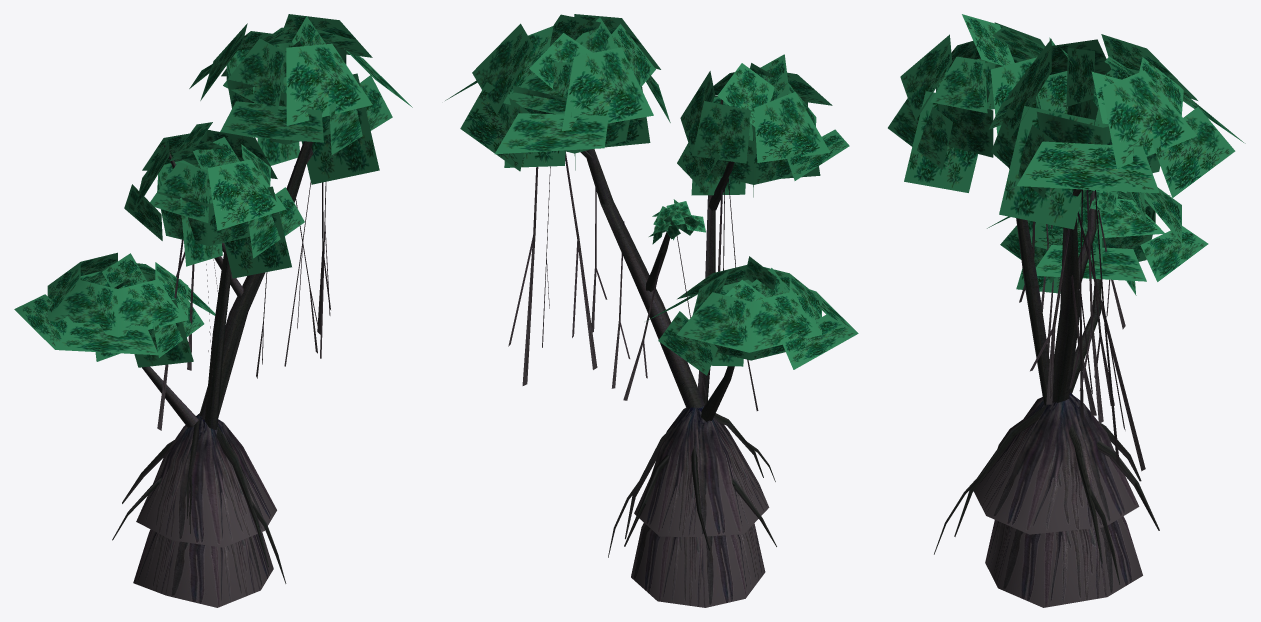
The model's file is swamp_tree_roots.fbx.
3 views of the same model, side by side, from view 1: azimuth 30°, elevation 25°; view 2: azimuth 150°, elevation 25°; view 3: azimuth 270°, elevation 25° (orthographic). The views are drawn at different scales.
Visible parts, largest first — view 1: leaves1, leaves2, leaves.001, root_up2, roots_dn, branches, hanging_branches, Mesh12; view 2: leaves1, leaves2, leaves.001, root_up2, roots_dn, branches, hanging_branches, leaves3, Mesh31; view 3: leaves1, leaves2, root_up2, roots_dn, leaves.001, branches, hanging_branches, Mesh31, Mesh12, leaves3, Mesh.
Part boxes in pixels (x1,y1,x2,y2): leaves1: [189, 14, 412, 184]; leaves2: [124, 122, 304, 278]; leaves.001: [14, 252, 215, 367]; root_up2: [136, 413, 276, 547]; roots_dn: [133, 529, 273, 607]; branches: [142, 141, 312, 429]; hanging_branches: [157, 182, 330, 430]; Mesh12: [216, 426, 286, 583]; leaves1: [445, 14, 670, 171]; leaves2: [677, 54, 849, 197]; leaves.001: [647, 256, 858, 375]; root_up2: [634, 405, 769, 536]; roots_dn: [631, 523, 765, 607]; branches: [580, 99, 734, 421]; hanging_branches: [508, 152, 758, 410]; leaves3: [649, 199, 705, 244]; Mesh31: [608, 426, 673, 557]; leaves1: [989, 34, 1245, 229]; leaves2: [888, 14, 1054, 192]; root_up2: [974, 392, 1139, 534]; roots_dn: [985, 516, 1142, 607]; leaves.001: [987, 187, 1208, 295]; branches: [1009, 168, 1101, 405]; hanging_branches: [1019, 189, 1145, 471]; Mesh31: [1069, 424, 1119, 584]; Mesh12: [934, 405, 1047, 554]; leaves3: [1079, 189, 1126, 214]; Mesh: [1096, 440, 1159, 530].
Size of the model in its own units: 3648 by 5151 by 2842.
2 materials, 2 textured.
